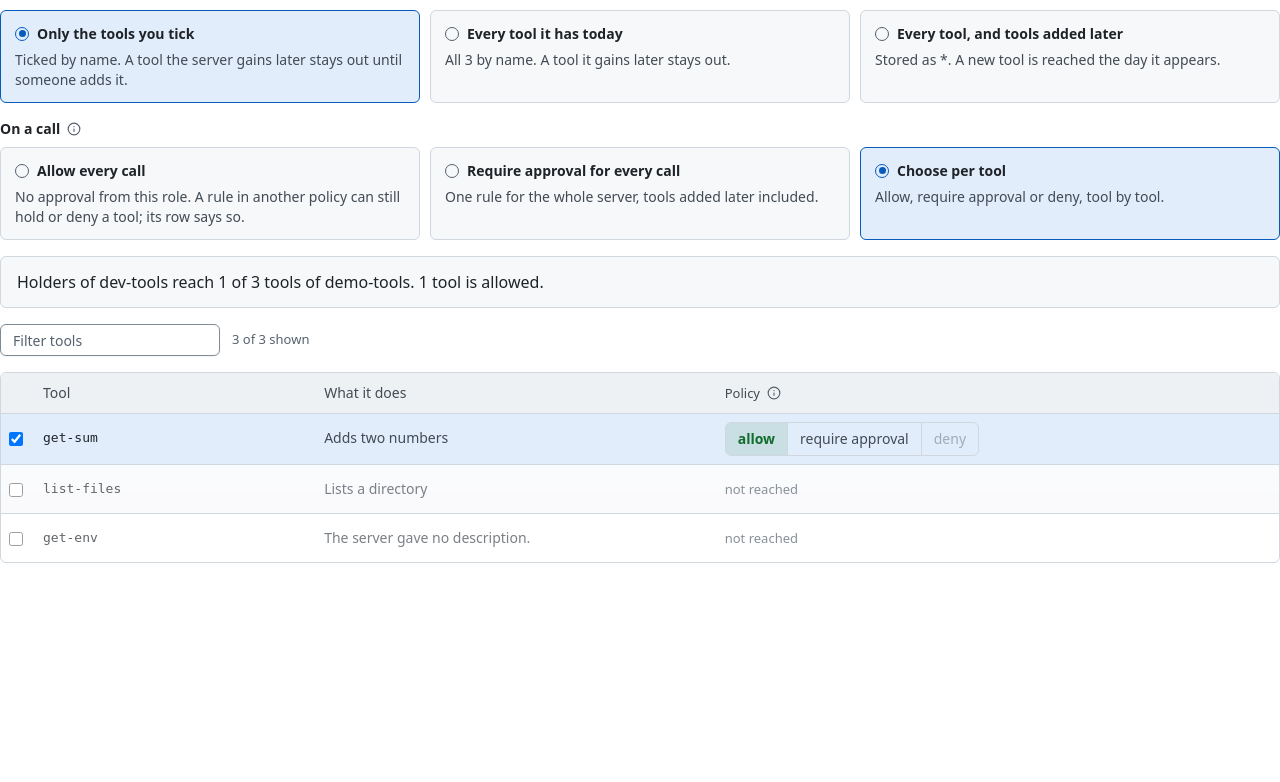
Test case: the access editor › offers deny only under the glob, and writes it as one deny rule
Click the radio button labelled "deny" at (950, 438), box x1=922 y1=422 x2=978 y2=454
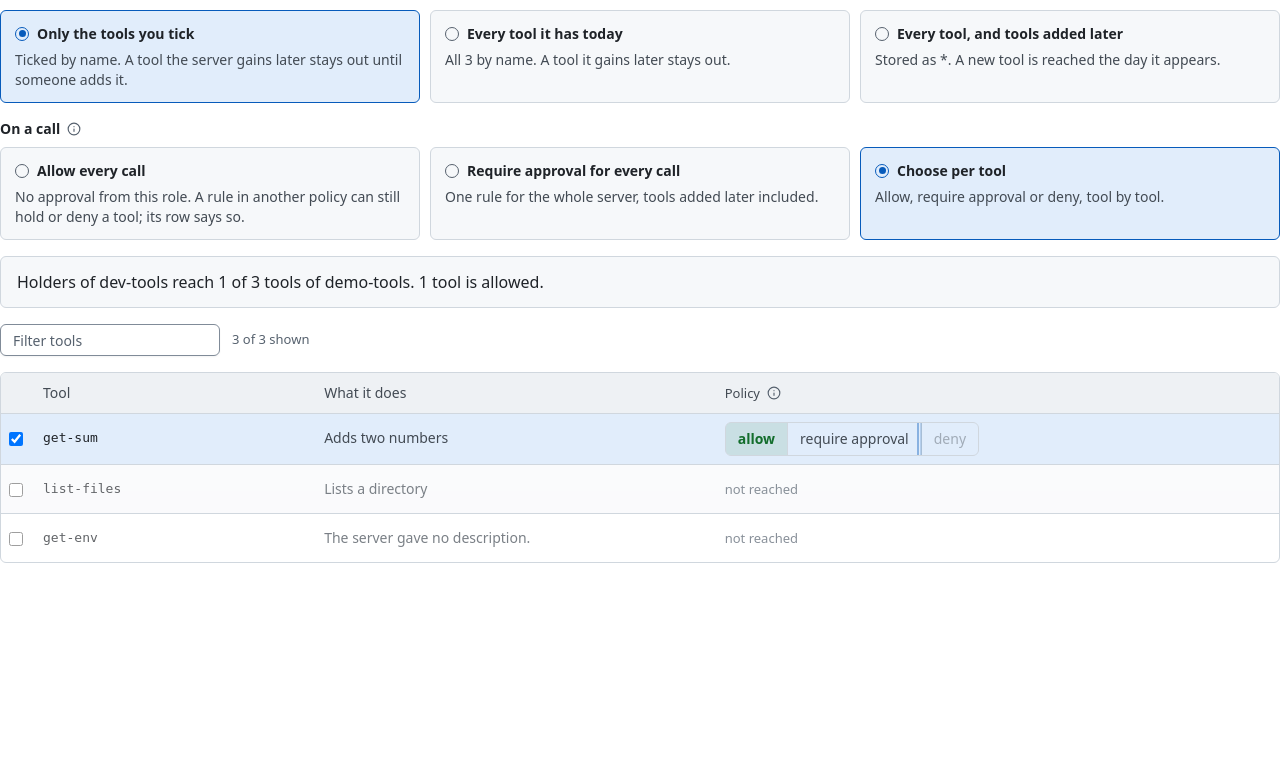
Click the radio button labelled "Every tool, and tools added later" at (1010, 34), box x1=861 y1=11 x2=1279 y2=82
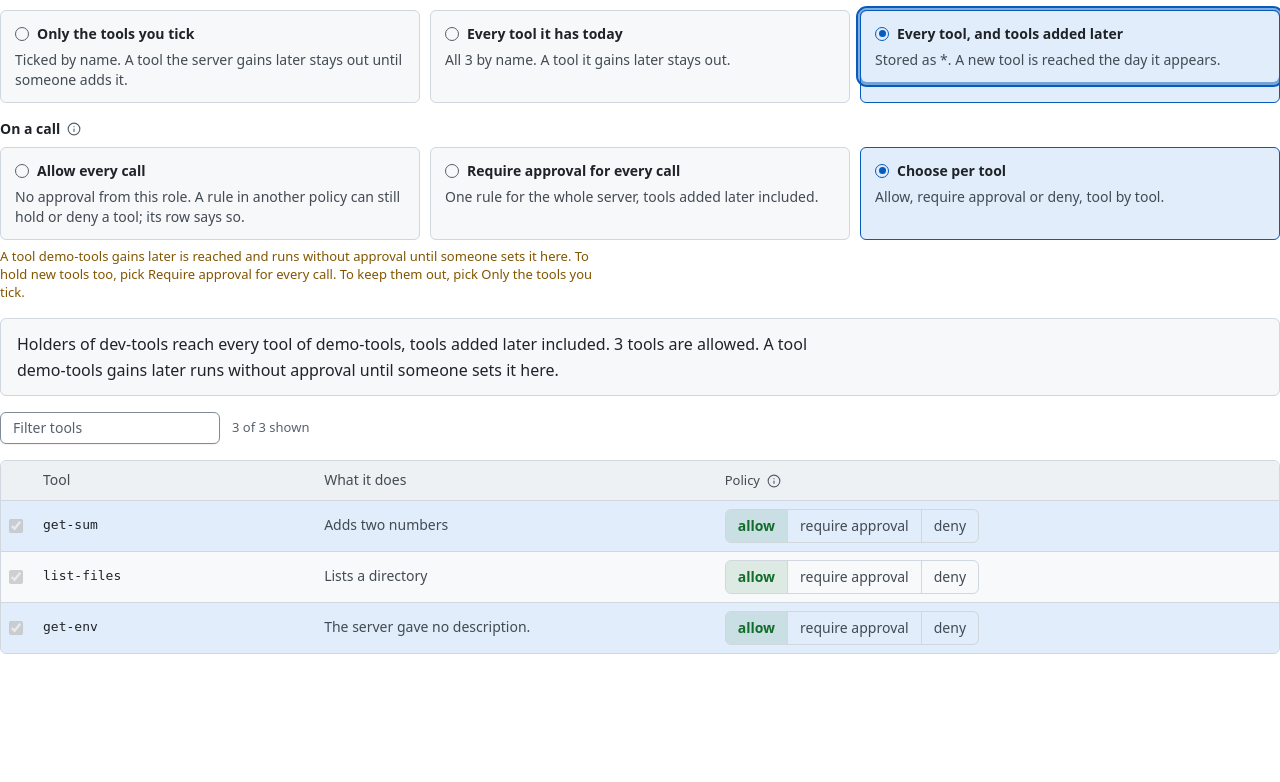
Now the radio button labelled "deny" in the row of "get-sum" does not have attribute aria-disabled
Click the radio button labelled "deny" in the row of "get-sum" at (950, 526), box x1=922 y1=510 x2=978 y2=542
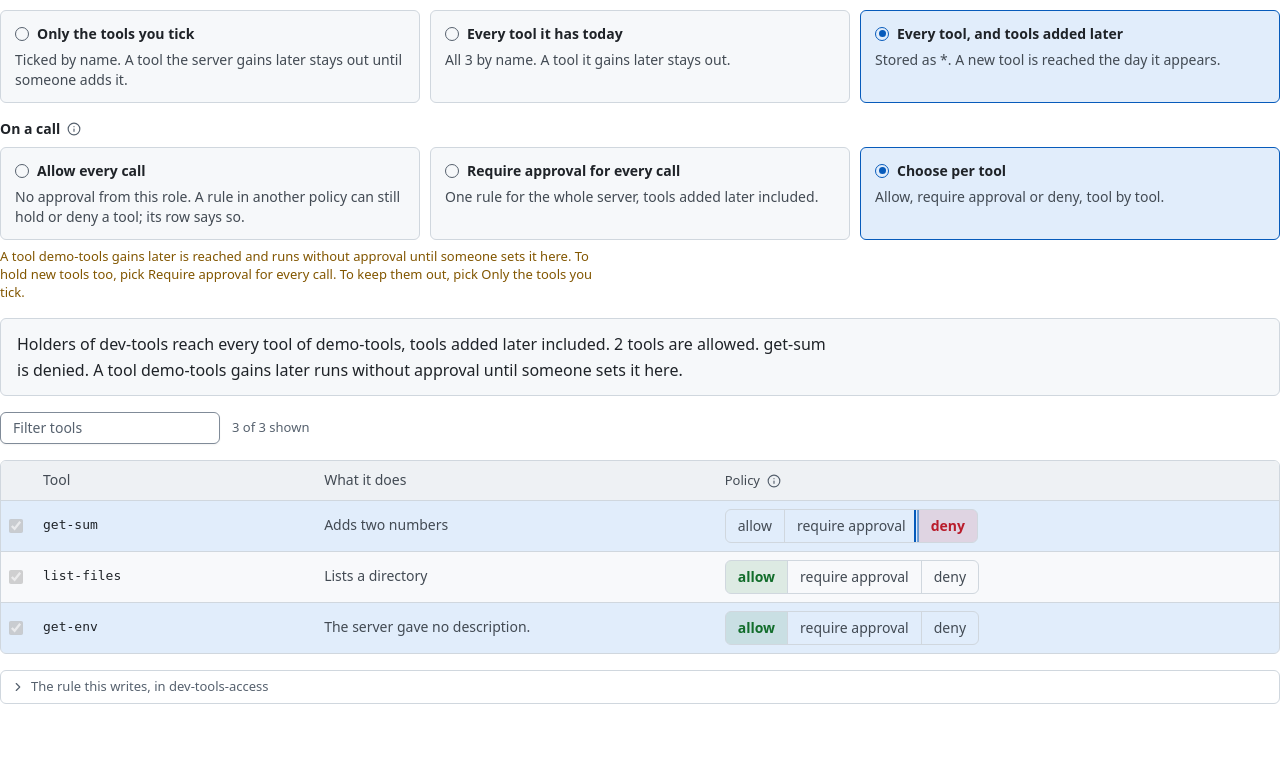
Now the radio button labelled "deny" in the row of "Adds two numbers" is checked, box x1=919 y1=510 x2=977 y2=542
Click the button "The rule this writes, in dev-tools-access" at (150, 686), box x1=1 y1=671 x2=1279 y2=703
(page scrolled)
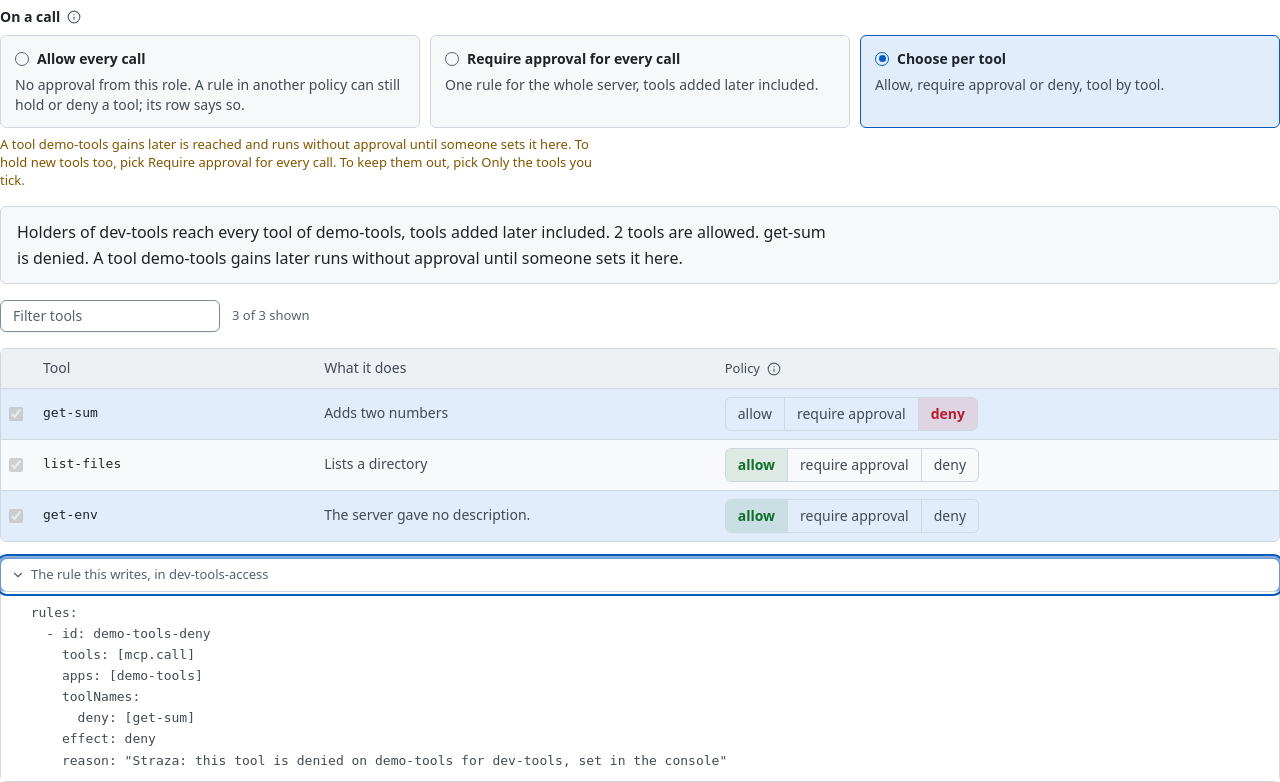
Now the text "- id: demo-tools-deny" is shown, box x1=15 y1=605 x2=727 y2=768
Now the text "deny: [get-sum]" is shown, box x1=15 y1=605 x2=727 y2=768
